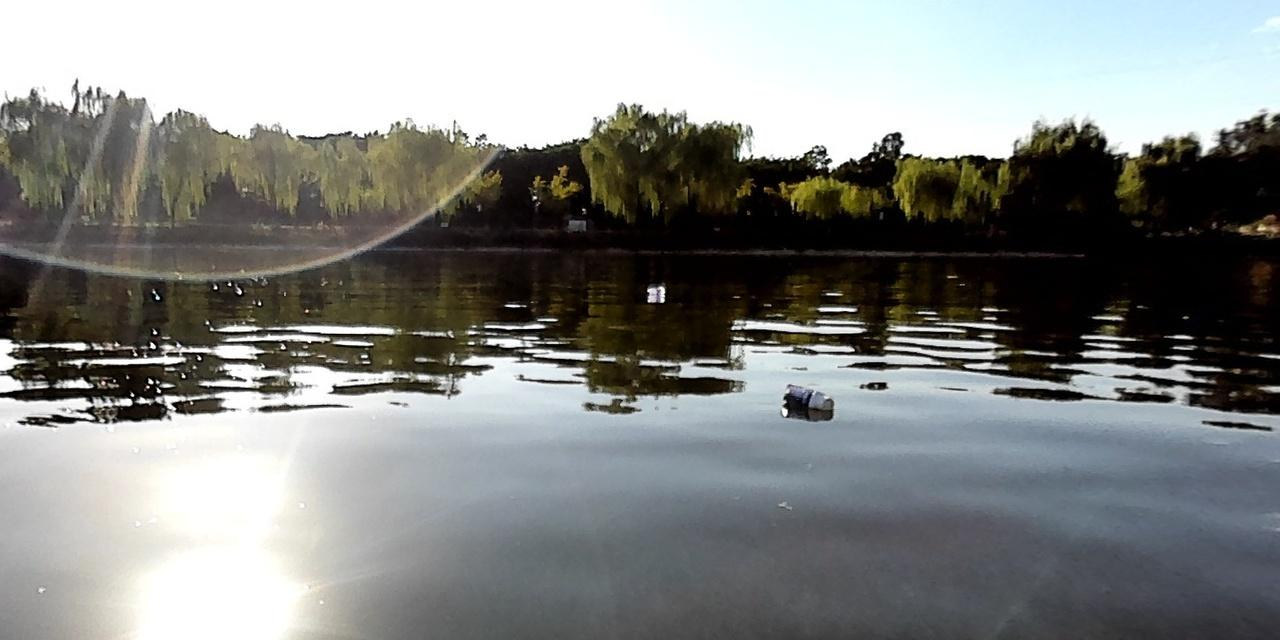bottle: (774, 377, 839, 414), (643, 282, 667, 296)
